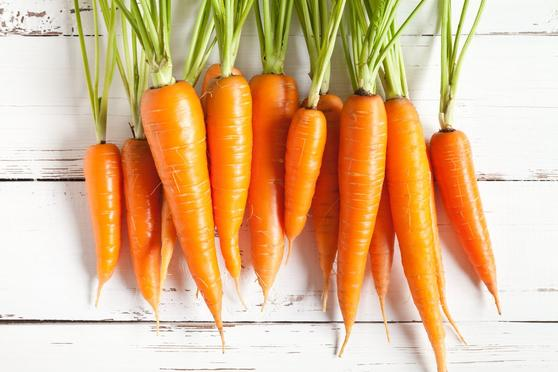carrot: (135, 82, 226, 334), (427, 118, 506, 310), (332, 86, 387, 349), (208, 64, 254, 265), (278, 100, 327, 237)
